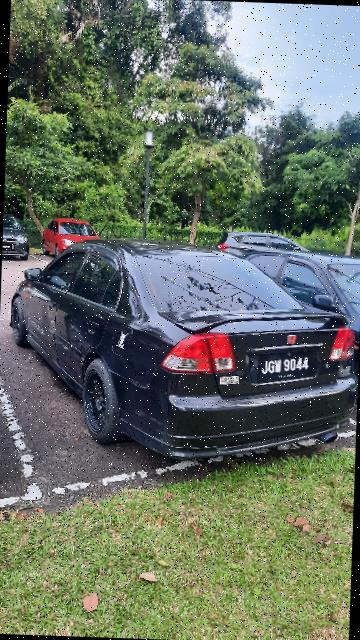License_Plate: (248, 342, 324, 388)
car: (10, 233, 360, 471)
